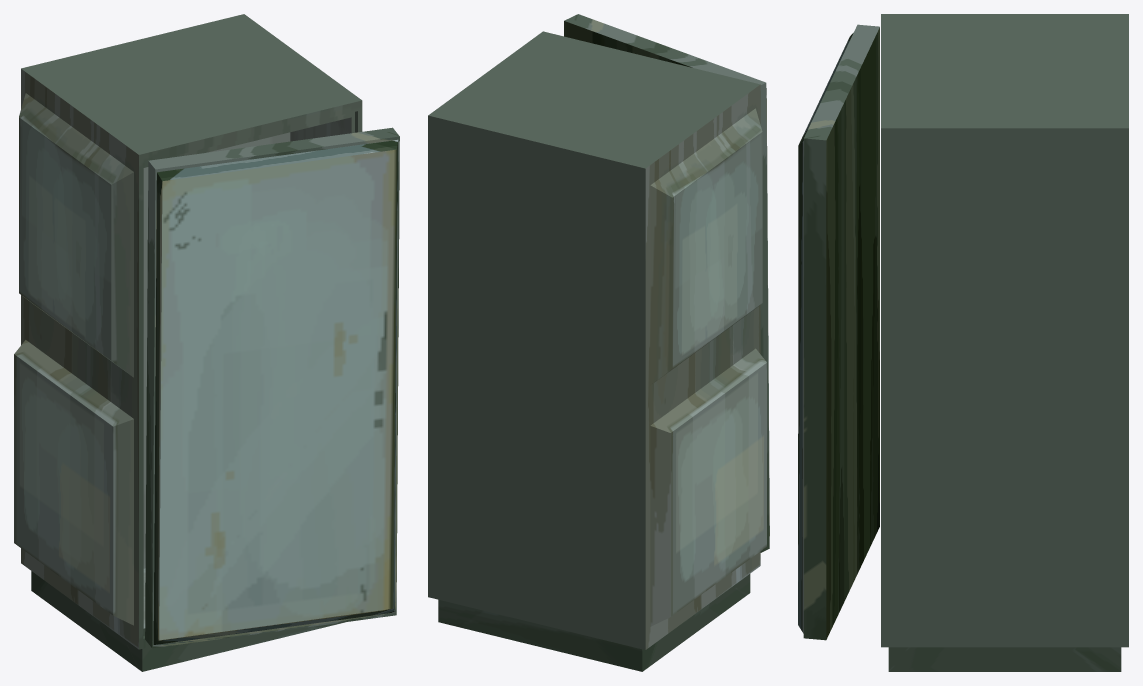
The model's file is SM_fridge.fbx.
3 views of the same model, side by side, from view 1: azimuth 30°, elevation 25°; view 2: azimuth 150°, elevation 25°; view 3: azimuth 270°, elevation 25° (orthographic). The views are drawn at different scales.
Visible parts, largest first — view 1: SM-Frisgedoor, SM_frisgecore; view 2: SM_frisgecore, SM-Frisgedoor; view 3: SM_frisgecore, SM-Frisgedoor.
Part boxes in pixels (bbox=[...]): SM-Frisgedoor: bbox=[145, 127, 399, 648]; SM_frisgecore: bbox=[14, 14, 362, 671]; SM_frisgecore: bbox=[428, 31, 766, 671]; SM-Frisgedoor: bbox=[564, 14, 769, 552]; SM_frisgecore: bbox=[881, 14, 1128, 671]; SM-Frisgedoor: bbox=[798, 24, 879, 640].
Bounding box in the file's own units: 103 × 211 × 115.
